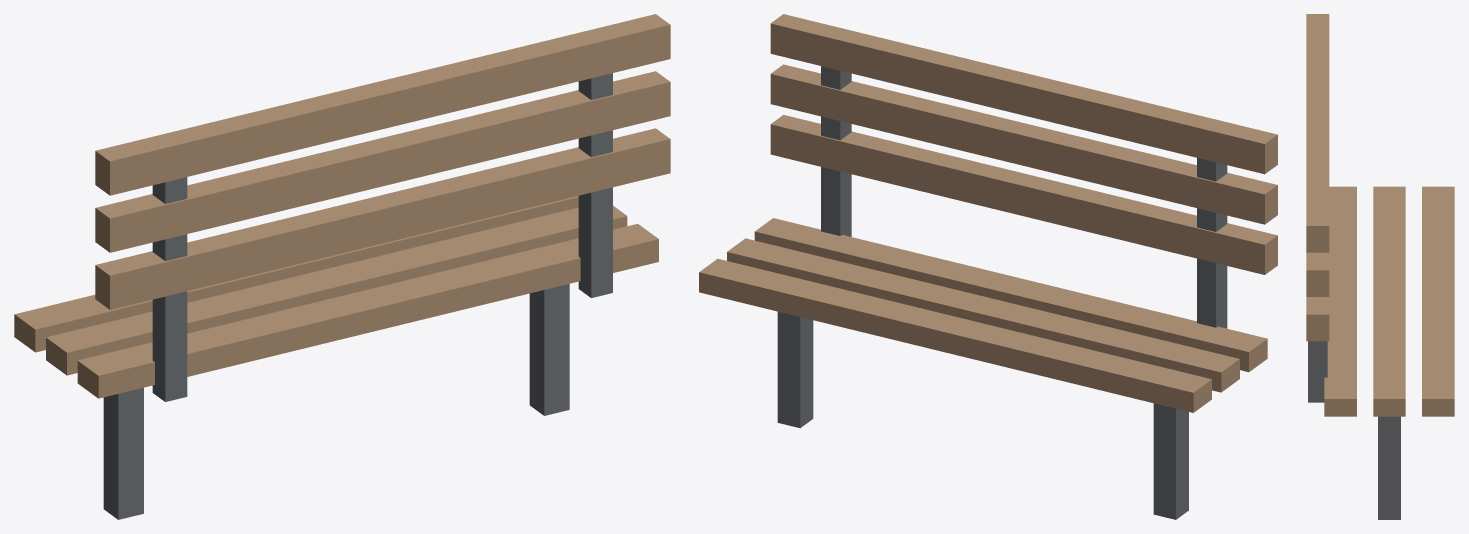
File: bench_02.glb
The picture shows the model from 3 angles, left to right: view 1: azimuth 30°, elevation 25°; view 2: azimuth 150°, elevation 25°; view 3: azimuth 270°, elevation 25°; orthographic projection. The views are drawn at different scales.
Visible parts, largest first — view 1: back2, back0, back1, slat0.15, slat0.0, slat-0.15, backpost-0.5852, leg-0.5852, leg0.5852, backpost0.5852; view 2: back2, back0, back1, slat-0.15, slat0.0, slat0.15, leg0.5852, leg-0.5852, backpost0.5852, backpost-0.5852; view 3: slat-0.15, slat0.0, slat0.15, back2, leg0.5852, backpost0.5852, back0, back1.
Boxes of the visible parts, bbox=[...] form: back2: bbox=[95, 14, 670, 195]; back0: bbox=[95, 128, 670, 309]; back1: bbox=[95, 71, 670, 252]; slat0.15: bbox=[77, 224, 658, 398]; slat0.0: bbox=[46, 205, 627, 375]; slat-0.15: bbox=[14, 196, 578, 352]; backpost-0.5852: bbox=[152, 177, 187, 401]; leg-0.5852: bbox=[103, 387, 143, 519]; leg0.5852: bbox=[529, 284, 569, 415]; backpost0.5852: bbox=[578, 73, 612, 297]; back2: bbox=[770, 14, 1277, 174]; back0: bbox=[770, 115, 1277, 274]; back1: bbox=[770, 64, 1277, 224]; slat-0.15: bbox=[699, 258, 1211, 412]; slat0.0: bbox=[727, 238, 1239, 392]; slat0.15: bbox=[754, 218, 1267, 372]; leg0.5852: bbox=[777, 311, 813, 428]; leg-0.5852: bbox=[1153, 403, 1188, 519]; backpost0.5852: bbox=[821, 66, 851, 236]; backpost-0.5852: bbox=[1197, 158, 1227, 328]; slat-0.15: bbox=[1422, 186, 1454, 416]; slat0.0: bbox=[1373, 186, 1405, 416]; slat0.15: bbox=[1324, 186, 1356, 416]; back2: bbox=[1306, 14, 1329, 252]; leg0.5852: bbox=[1378, 416, 1400, 519]; backpost0.5852: bbox=[1308, 341, 1327, 402]; back0: bbox=[1306, 297, 1329, 341]; back1: bbox=[1306, 252, 1329, 296].
Bounding box in the file's own units: 1.54 × 1.07 × 0.455.
